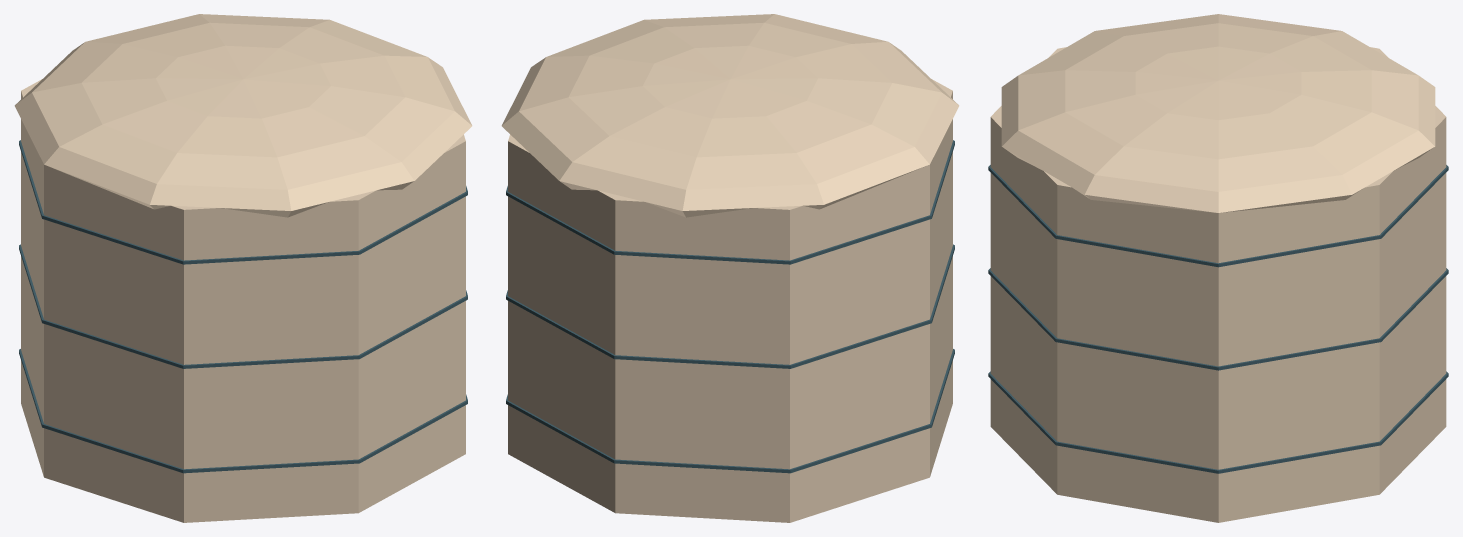
The model's file is storageTank.obj.
3 views of the same model, side by side, from view 1: azimuth 30°, elevation 25°; view 2: azimuth 150°, elevation 25°; view 3: azimuth 270°, elevation 25° (orthographic).
Parts seen in each view (by area): view 1: storageTank; view 2: storageTank; view 3: storageTank.
Boxes of the visible parts, box(x1,y1,x2,y2) form: storageTank: box(14, 14, 472, 522); storageTank: box(501, 14, 959, 522); storageTank: box(988, 14, 1448, 522).
Bounding box in the file's own units: 8.08 × 6.7 × 8.08.
